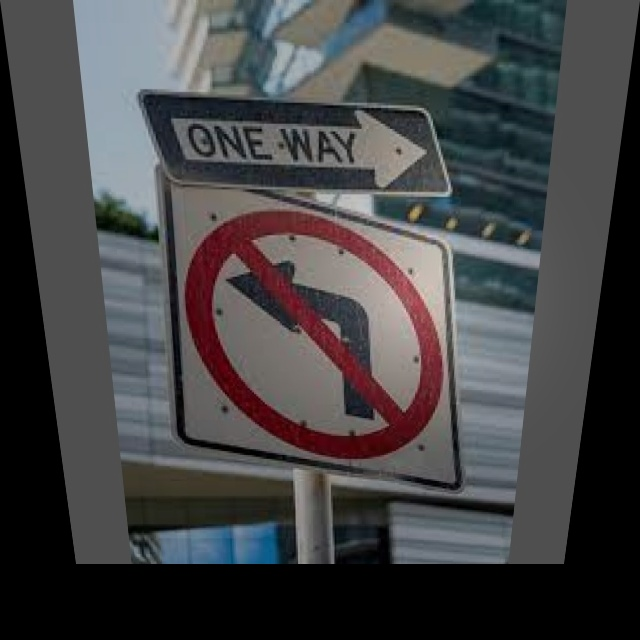Left_Turn_Prohibited: (175, 189, 462, 464)
